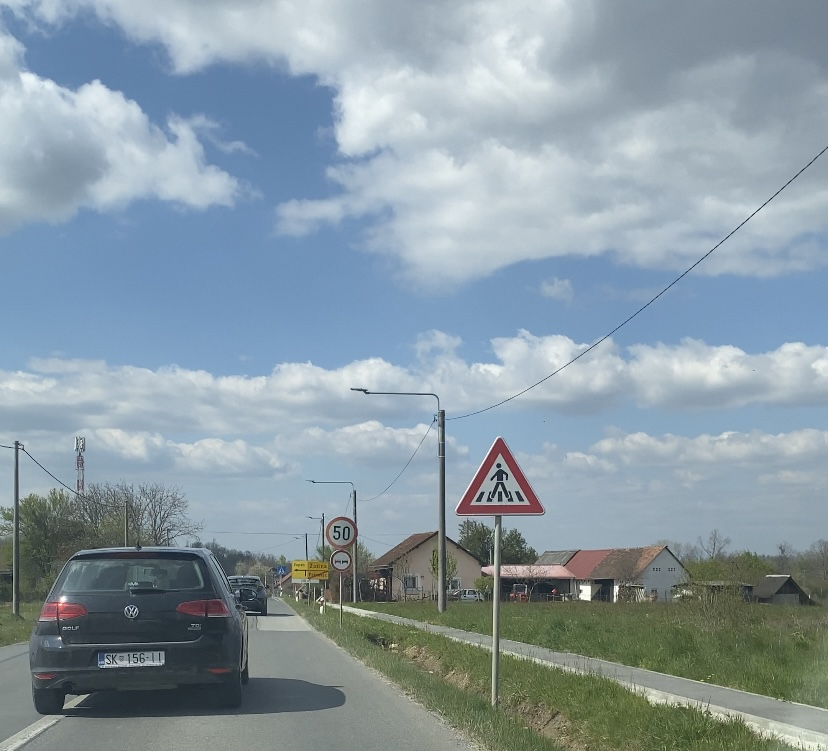Ograničenje brzine 50: (325, 516, 358, 549)
Približavanje pješačkom prijelazu: (455, 435, 546, 516)
Zabrana pretjecanja: (330, 549, 352, 571)
